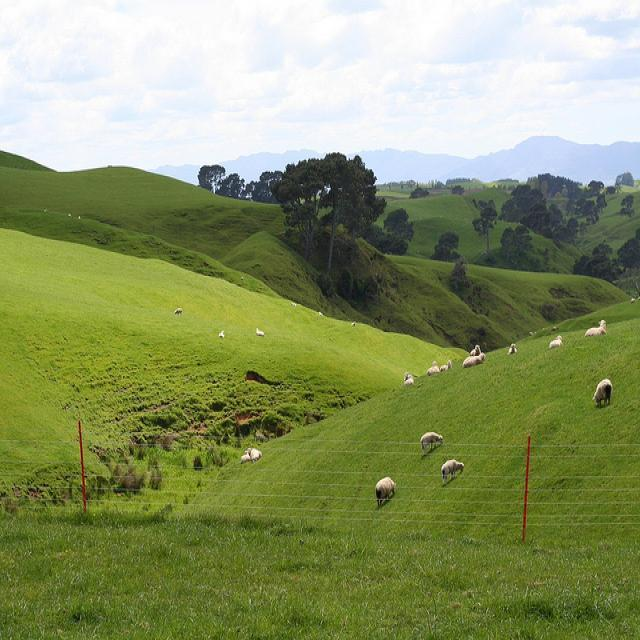cow: (460, 351, 485, 367)
